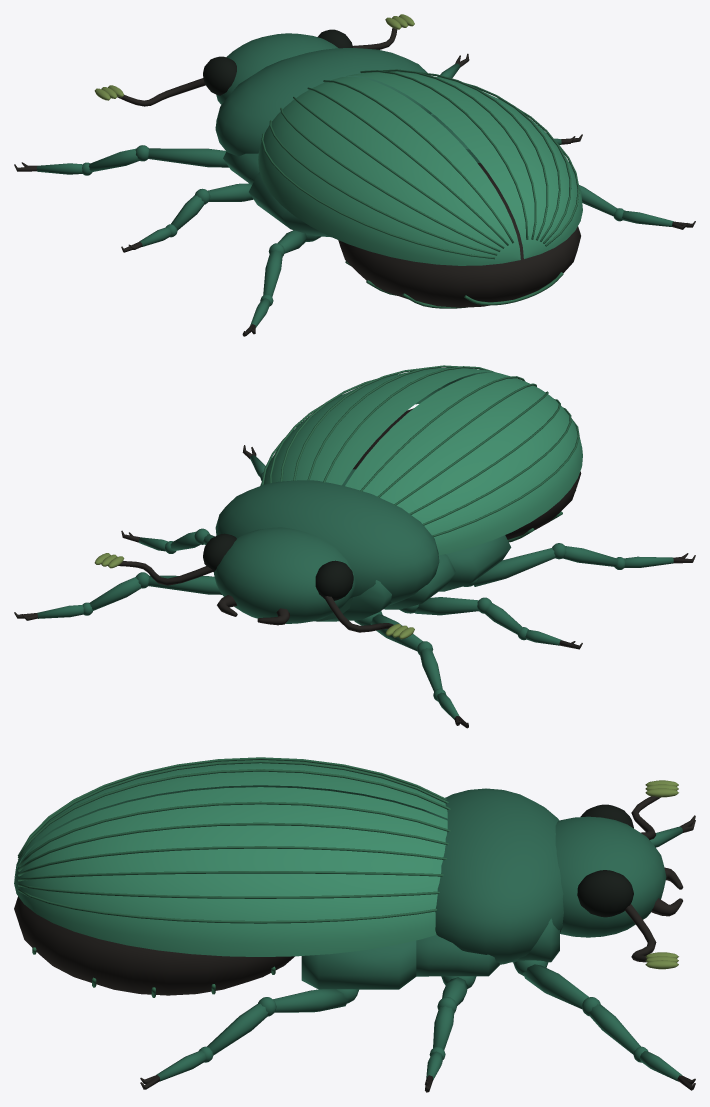
File: NaturalBeetle.fbx
3 views of the same model, one above another, from view 1: azimuth 30°, elevation 25°; view 2: azimuth 150°, elevation 25°; view 3: azimuth 270°, elevation 25° (orthographic). The views are drawn at different scales.
Visible parts, largest first — view 1: Material group NaturalBeetle_Elytra, Material group NaturalBeetle_Thorax, Material group NaturalBeetle_Joint, Material group NaturalBeetle_Striae, Material group NaturalBeetle_Eye, Material group NaturalBeetle_CuticleEdge; view 2: Material group NaturalBeetle_Thorax, Material group NaturalBeetle_Elytra, Material group NaturalBeetle_Striae, Material group NaturalBeetle_Joint, Material group NaturalBeetle_Eye, Material group NaturalBeetle_CuticleEdge; view 3: Material group NaturalBeetle_Elytra, Material group NaturalBeetle_Thorax, Material group NaturalBeetle_Joint, Material group NaturalBeetle_Striae, Material group NaturalBeetle_Eye, Material group NaturalBeetle_CuticleEdge.
Part boxes in pixels (x1,y1,x2,y2): Material group NaturalBeetle_Elytra: (258, 71, 582, 265); Material group NaturalBeetle_Thorax: (37, 33, 673, 327); Material group NaturalBeetle_Joint: (14, 28, 695, 336); Material group NaturalBeetle_Striae: (261, 69, 579, 308); Material group NaturalBeetle_Eye: (203, 29, 352, 95); Material group NaturalBeetle_CuticleEdge: (94, 14, 414, 100); Material group NaturalBeetle_Thorax: (37, 455, 673, 719); Material group NaturalBeetle_Elytra: (260, 367, 582, 555); Material group NaturalBeetle_Striae: (261, 365, 579, 542); Material group NaturalBeetle_Joint: (14, 408, 695, 728); Material group NaturalBeetle_Eye: (203, 533, 353, 600); Material group NaturalBeetle_CuticleEdge: (94, 553, 414, 639); Material group NaturalBeetle_Elytra: (14, 760, 447, 956); Material group NaturalBeetle_Thorax: (156, 788, 682, 1081); Material group NaturalBeetle_Joint: (14, 796, 695, 1092); Material group NaturalBeetle_Striae: (17, 757, 450, 997); Material group NaturalBeetle_Eye: (577, 804, 633, 917); Material group NaturalBeetle_CuticleEdge: (645, 780, 678, 969).
Bounding box in the file's own units: 0.9464 × 0.3014 × 1.
